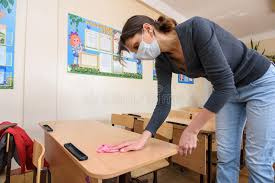desk: (37, 117, 180, 181)
